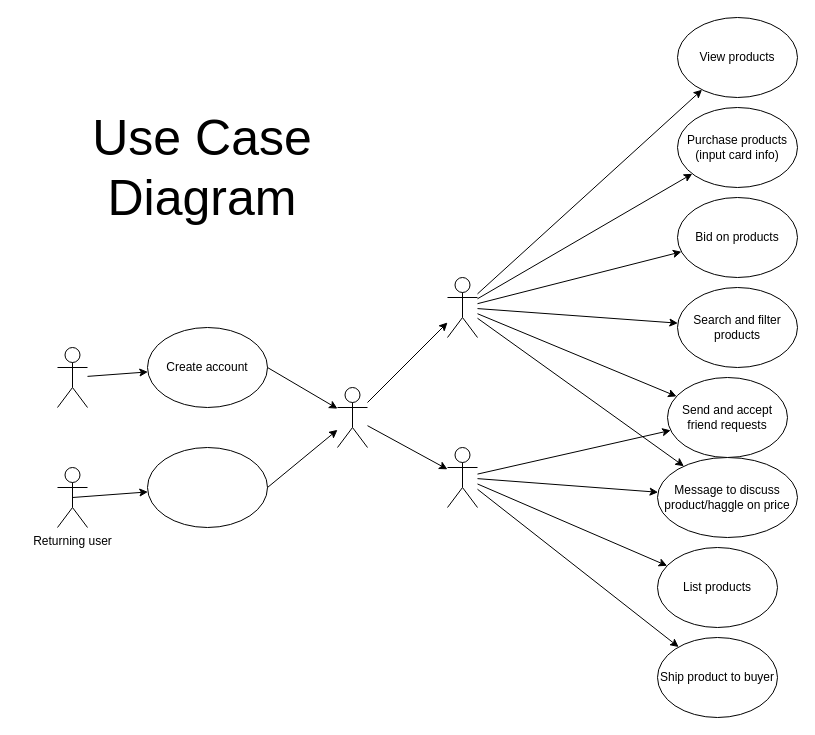
Image size: 815x735. Some labels were removed from this diagram. Each missing label, with the centre of its shape:
"Buyer" belongs at (x=462, y=307).
"Log in" belongs at (x=207, y=487).
"Logged-in user" belongs at (x=352, y=417).
"New user" belongs at (x=72, y=377).
"Seller" belongs at (x=462, y=477).
